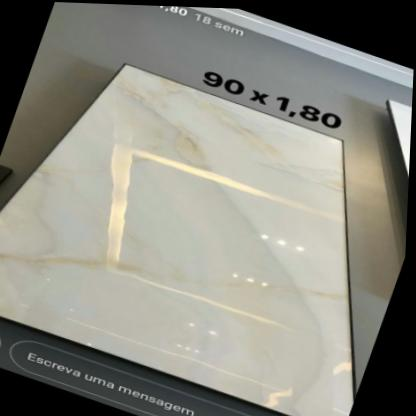Ceramic floor: (0, 66, 358, 416)
